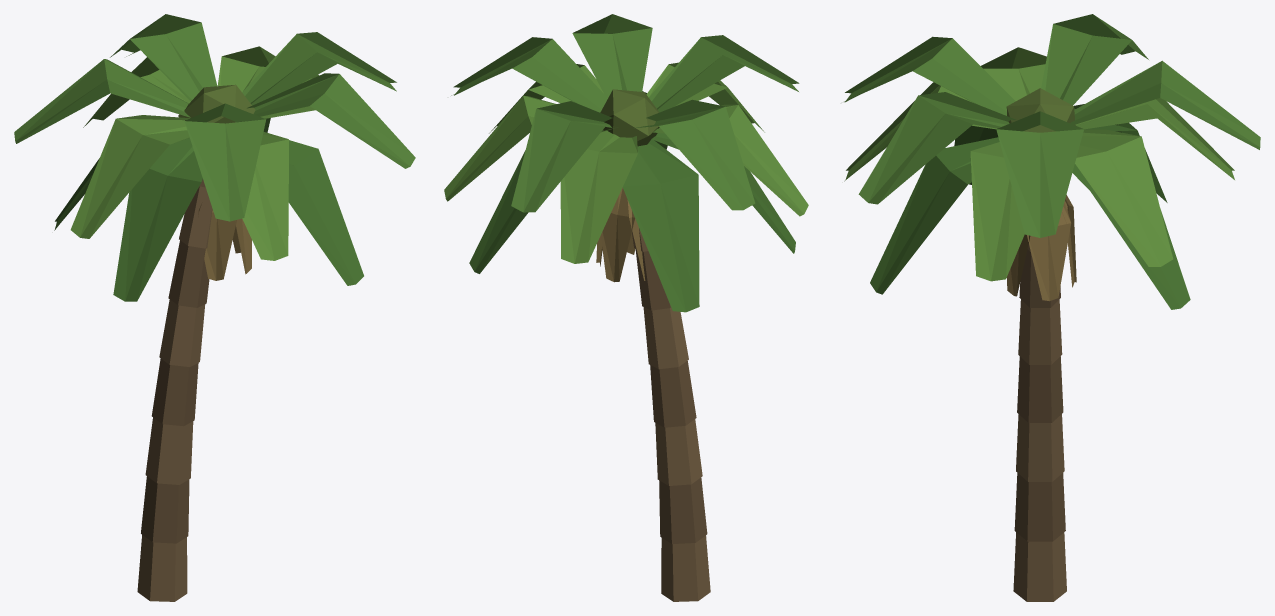
Rendered from tree-palm.glb.
The picture shows the model from 3 angles, left to right: view 1: azimuth 30°, elevation 25°; view 2: azimuth 150°, elevation 25°; view 3: azimuth 270°, elevation 25°; orthographic projection. The views are drawn at different scales.
Parts seen in each view (by area): view 1: tree; view 2: tree; view 3: tree.
Part boxes in pixels (x1,y1,x2,y2): tree: [14, 14, 415, 601]; tree: [444, 14, 808, 601]; tree: [844, 14, 1260, 601].
Bounding box in the file's own units: 0.2124 × 0.3101 × 0.2116.
